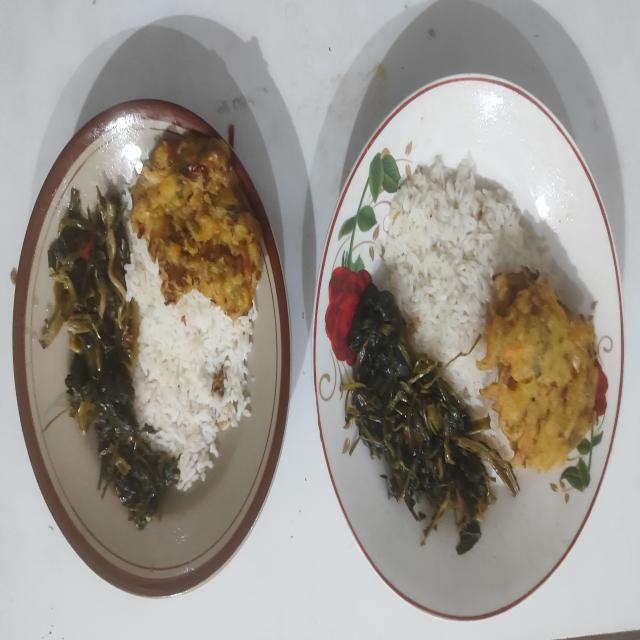nasi_putih: (374, 155, 551, 460), (125, 238, 258, 490)
tumis_kangkung: (39, 187, 180, 530), (346, 282, 519, 554)
